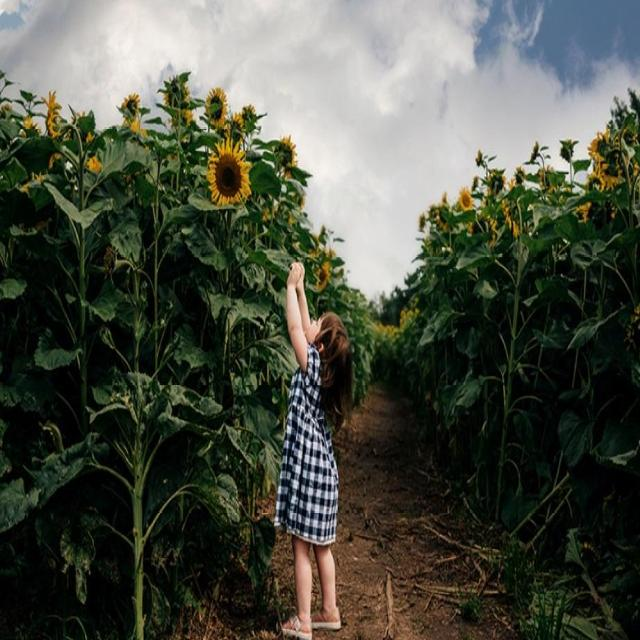row: (189, 368, 547, 640)
